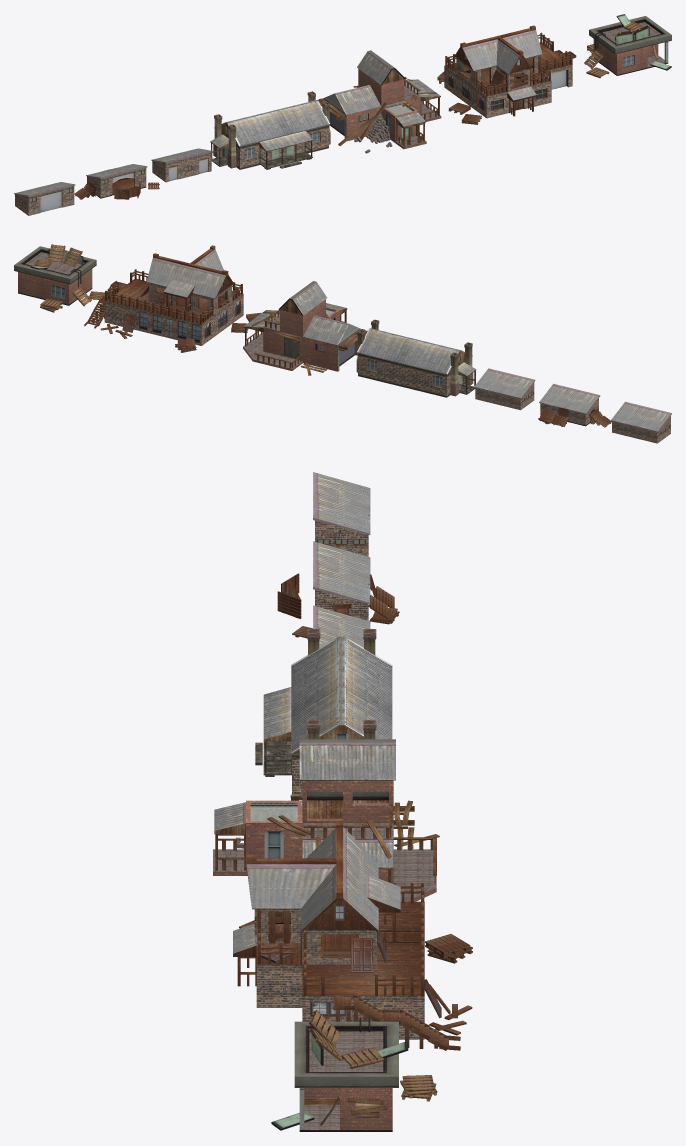
File: building.FBX
The picture shows the model from 3 angles, top to bottom: view 1: azimuth 30°, elevation 25°; view 2: azimuth 150°, elevation 25°; view 3: azimuth 270°, elevation 25°; orthographic projection. The views are drawn at different scales.
Visible parts, largest first — view 1: Box01 (×5), Box03, Box02; view 2: Box01 (×5), Box03, Box02; view 3: Box01 (×5), Box03, Box02.
Boxes of the visible parts, x1,y1,x2,y2 form: Box01 (×5): (14, 14, 671, 215); Box03: (74, 164, 159, 199); Box02: (151, 148, 212, 182); Box01 (×5): (14, 244, 671, 443); Box03: (538, 383, 611, 427); Box02: (474, 368, 535, 410); Box01 (×5): (213, 472, 472, 1131); Box03: (277, 541, 399, 638); Box02: (313, 605, 370, 647).
Bounding box in the file's own units: 836 × 79.1 × 148.
